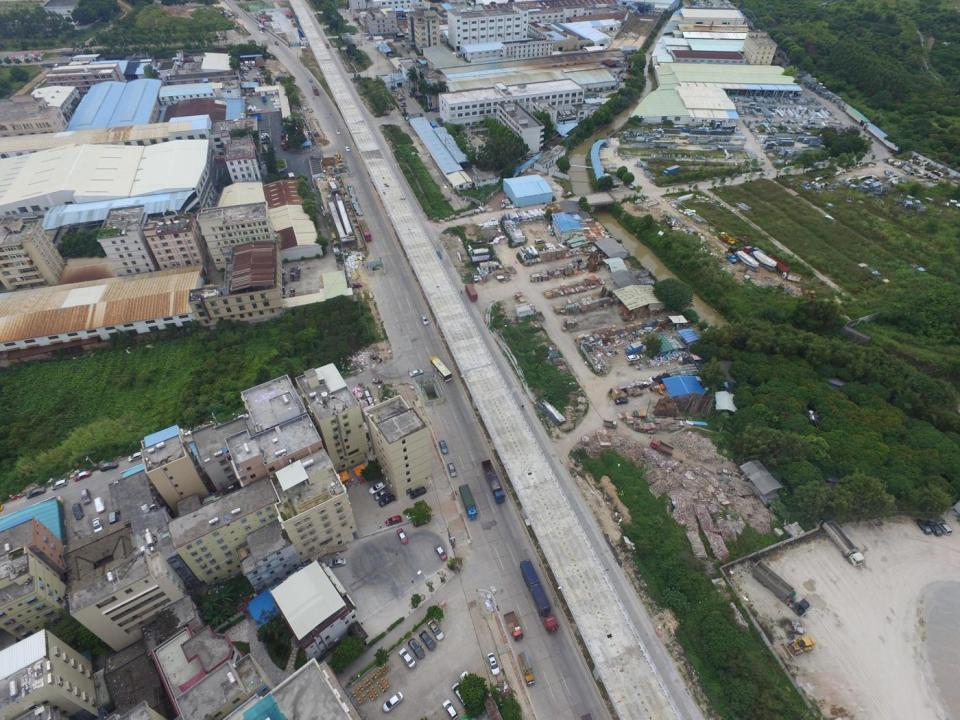bus: (429, 354, 453, 382), (258, 22, 266, 31)
car: (460, 669, 479, 696), (382, 691, 404, 713), (418, 629, 437, 651), (398, 647, 416, 669), (407, 637, 425, 659), (486, 652, 501, 677), (428, 619, 444, 641), (443, 699, 459, 719), (915, 518, 932, 535), (925, 519, 942, 536), (936, 519, 952, 536), (433, 543, 447, 562), (377, 493, 396, 507), (369, 481, 385, 496), (408, 486, 426, 499), (326, 557, 347, 568), (374, 487, 390, 501), (405, 508, 423, 520), (396, 528, 408, 544), (385, 514, 401, 526), (447, 461, 457, 478), (439, 439, 448, 454), (409, 369, 423, 377), (421, 314, 430, 326), (570, 258, 583, 265), (627, 354, 640, 361), (345, 144, 350, 152), (399, 103, 407, 108), (335, 129, 341, 135), (258, 30, 264, 34), (308, 78, 313, 82)
truck: (749, 560, 810, 616), (518, 558, 560, 636), (820, 519, 865, 566), (481, 459, 504, 505), (743, 246, 776, 272), (728, 246, 759, 272), (458, 484, 477, 521), (518, 650, 535, 686), (504, 611, 522, 642), (765, 252, 790, 273), (649, 436, 674, 456), (358, 218, 372, 243), (624, 340, 643, 355), (661, 164, 680, 178), (464, 284, 478, 302), (782, 270, 801, 283), (724, 249, 737, 264), (752, 246, 768, 257), (603, 419, 617, 429), (429, 120, 438, 132), (312, 84, 320, 96)
van: (451, 682, 471, 709), (534, 238, 546, 245)
